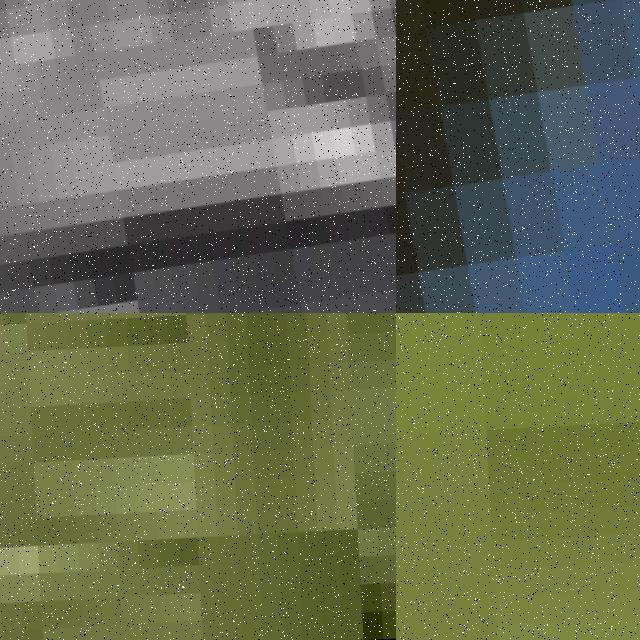drone: (0, 0, 396, 313), (396, 0, 640, 313)
